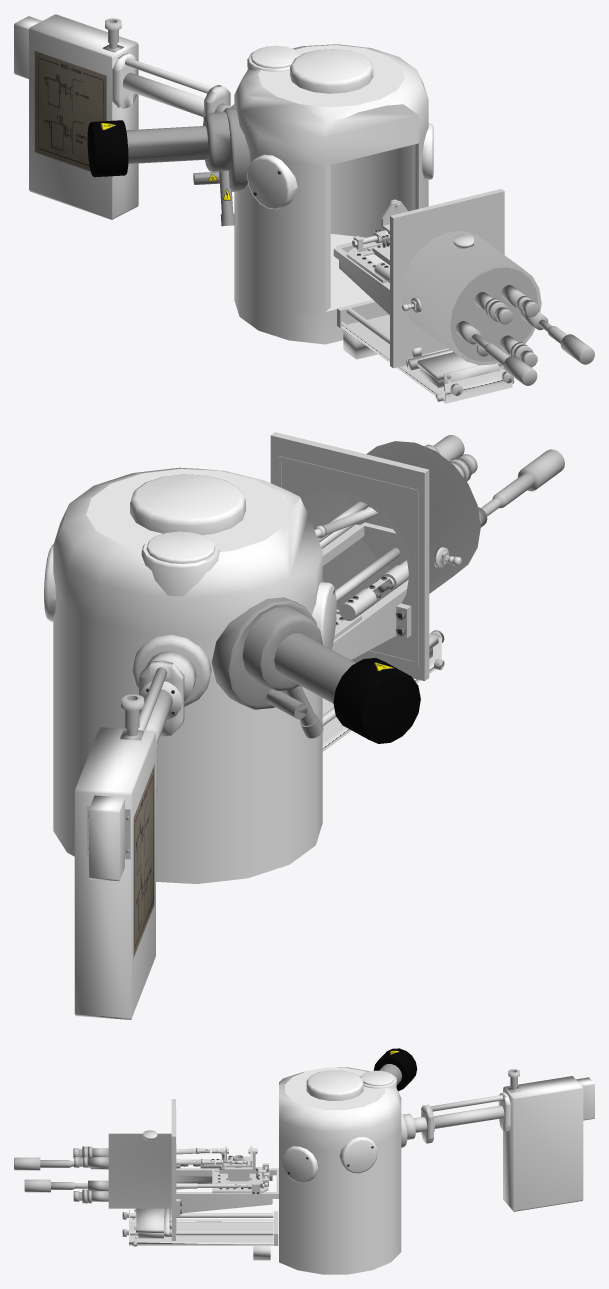
File: 主體低.fbx
3 views of the same model, one above another, from view 1: azimuth 30°, elevation 25°; view 2: azimuth 150°, elevation 25°; view 3: azimuth 270°, elevation 25° (orthographic). The views are drawn at different scales.
Parts seen in each view (by area): view 1: 圓柱體.033, 側板, 立方體.003, 內部外殼.001, 拉版, 桿子, 圓柱體.005, 空桿, 立方體.011, 中, 下, 圓柱體.023 (+1 smaller); view 2: 圓柱體.033, 側板, 立方體.003, 桿子, 立方體.007, 中, 立方體.006, 下, 立方體.011, 圓柱體.022, 拉版, 圓柱體.036; view 3: 圓柱體.033, 側板, 立方體.003, 拉版, 桿子, 下, 圓柱體.005, 中, 桿子.001, 空桿, 立方體.011, 立方體.016 (+4 smaller).
Boxes of the visible parts, box(x1,y1,x2,y2) form: 圓柱體.033: box(87, 44, 433, 344); 側板: box(14, 14, 138, 219); 立方體.003: box(390, 189, 541, 368); 內部外殼.001: box(450, 267, 538, 361); 拉版: box(337, 300, 512, 403); 桿子: box(122, 58, 234, 118); 圓柱體.005: box(405, 347, 503, 391); 空桿: box(455, 285, 548, 356); 立方體.011: box(346, 236, 389, 283); 中: box(333, 242, 389, 296); 下: box(339, 260, 389, 314); 圓柱體.023: box(560, 334, 594, 364); 圓柱體.033: box(44, 467, 420, 883); 側板: box(74, 727, 157, 1019); 立方體.003: box(270, 432, 480, 681); 桿子: box(132, 635, 211, 743); 立方體.007: box(304, 495, 408, 612); 中: box(322, 522, 408, 651); 立方體.006: box(277, 456, 418, 667); 下: box(335, 603, 411, 659); 立方體.011: box(334, 588, 376, 639); 圓柱體.022: box(517, 449, 564, 491); 拉版: box(322, 637, 441, 751); 圓柱體.036: box(335, 547, 400, 601); 圓柱體.033: box(279, 1048, 416, 1274); 側板: box(498, 1076, 594, 1211); 立方體.003: box(108, 1099, 175, 1240); 拉版: box(129, 1209, 278, 1260); 桿子: box(401, 1095, 504, 1148); 下: box(176, 1175, 272, 1215); 圓柱體.005: box(135, 1208, 171, 1238); 中: box(176, 1168, 278, 1198); 桿子.001: box(130, 1213, 273, 1235); 空桿: box(83, 1146, 108, 1203); 立方體.011: box(200, 1159, 268, 1193); 立方體.016: box(221, 1148, 255, 1181).
Size of the model in its own units: 45.44 by 36.17 by 113.
